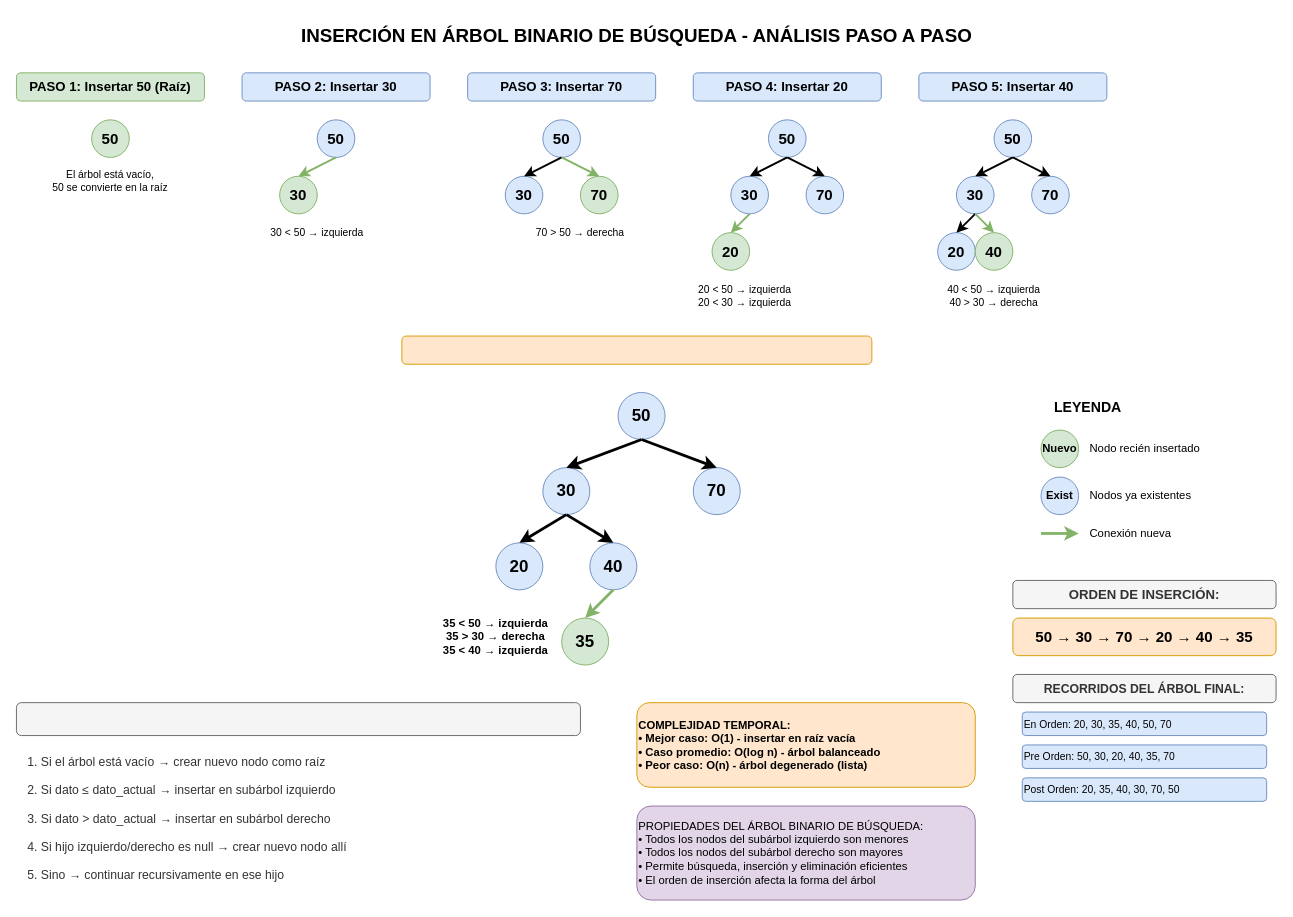
This 1293x917 diagram has some shape labels left out. Each missing label, with the centre of its shape:
"ALGORITMO DE INSERCIÓN" goes at [298,719].
"PASO 6: Insertar 35 (ÁRBOL FINAL)" goes at [636,349].
